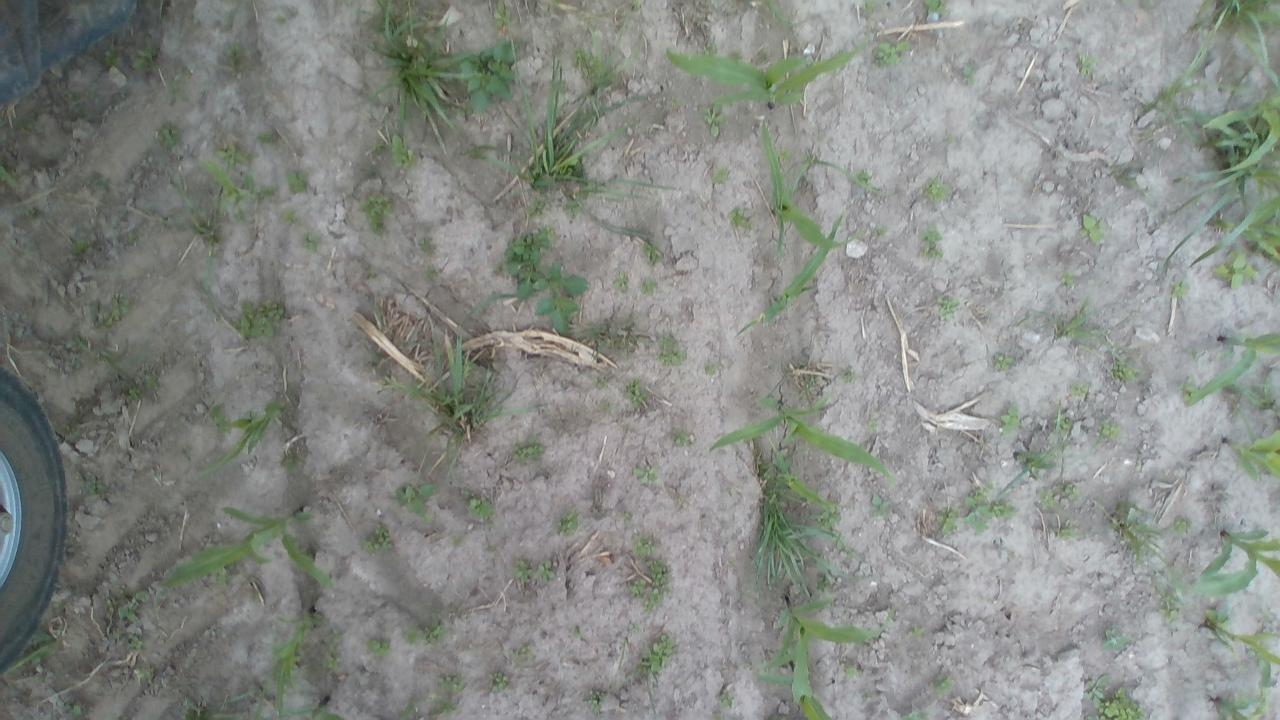Maize: (146, 498, 342, 596), (708, 388, 902, 487), (760, 586, 910, 712), (753, 118, 886, 248), (662, 28, 879, 106), (736, 212, 847, 340), (188, 394, 304, 478), (1179, 326, 1280, 408), (1183, 526, 1280, 596), (1203, 614, 1280, 688), (769, 658, 840, 720), (1205, 665, 1280, 720), (201, 159, 259, 223), (1220, 431, 1280, 484)
Weeds: (480, 61, 660, 219), (1174, 86, 1280, 260), (1143, 0, 1280, 126), (364, 0, 470, 143), (399, 320, 509, 456), (758, 459, 858, 594), (460, 31, 523, 118), (497, 224, 562, 306), (165, 172, 226, 255), (270, 604, 315, 710), (1107, 501, 1174, 566), (566, 312, 654, 360), (532, 266, 586, 340), (1001, 439, 1082, 486), (572, 27, 636, 84), (1078, 673, 1154, 720), (964, 474, 1022, 535), (0, 625, 64, 678), (1052, 304, 1118, 350), (231, 298, 294, 342), (67, 338, 130, 382), (369, 118, 414, 172), (394, 478, 444, 526), (352, 190, 399, 241), (630, 630, 674, 682), (210, 34, 259, 80), (642, 556, 674, 620), (181, 692, 257, 718), (82, 294, 134, 330), (1212, 254, 1258, 292), (1106, 350, 1148, 390), (869, 32, 912, 70), (360, 524, 400, 562), (1037, 481, 1086, 512), (214, 140, 258, 174), (512, 436, 552, 473), (512, 555, 558, 587), (814, 503, 854, 539), (1108, 161, 1151, 194), (462, 492, 502, 526), (913, 224, 946, 265), (368, 632, 402, 671), (700, 100, 731, 141), (115, 591, 152, 625), (132, 36, 164, 75), (1158, 584, 1190, 622), (624, 460, 659, 494), (656, 334, 689, 370), (1078, 212, 1108, 250), (998, 406, 1028, 444), (930, 504, 963, 538), (1092, 414, 1126, 446), (482, 668, 516, 700), (418, 612, 448, 648), (320, 628, 341, 679), (438, 669, 470, 702), (622, 376, 653, 410), (64, 226, 93, 262), (253, 125, 296, 148), (112, 630, 150, 656), (486, 0, 520, 28), (157, 121, 186, 153), (283, 170, 321, 194), (724, 206, 754, 236), (65, 82, 88, 120), (584, 686, 614, 714), (1102, 628, 1132, 655), (138, 361, 159, 399), (552, 507, 576, 540), (924, 178, 952, 206), (1052, 412, 1080, 440), (935, 295, 962, 324), (629, 534, 659, 560), (930, 675, 961, 700), (162, 68, 188, 97), (1050, 522, 1082, 545), (862, 412, 888, 440), (1074, 51, 1098, 81), (81, 172, 117, 192), (801, 368, 822, 402), (76, 479, 110, 500), (710, 159, 734, 188), (842, 362, 866, 391), (510, 638, 536, 664), (299, 230, 324, 257), (0, 164, 23, 192), (58, 416, 80, 445), (244, 174, 274, 195), (714, 686, 740, 710), (1168, 282, 1196, 304), (640, 238, 663, 264), (992, 351, 1019, 373), (570, 622, 591, 650), (63, 699, 90, 720), (418, 266, 445, 287), (638, 272, 658, 300), (416, 235, 440, 257), (280, 206, 302, 229), (867, 494, 890, 515), (1169, 516, 1192, 536), (399, 626, 422, 646), (98, 47, 118, 70), (628, 579, 648, 601), (920, 0, 947, 16), (897, 707, 930, 720), (960, 58, 974, 88), (700, 358, 720, 379), (124, 382, 142, 402), (856, 167, 876, 184), (670, 432, 691, 448), (1060, 273, 1078, 291), (1071, 382, 1090, 399), (611, 267, 628, 285), (940, 132, 961, 146), (908, 624, 929, 638), (138, 669, 154, 687), (842, 664, 862, 678), (592, 373, 609, 389), (620, 510, 634, 523)
